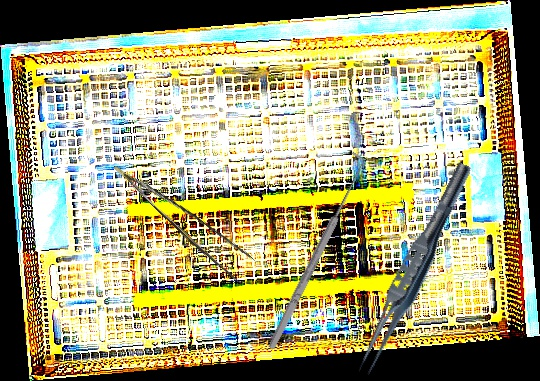Hook Surgical: (258, 150, 372, 353)
Tissue Forceps: (351, 157, 477, 381), (113, 145, 261, 289)
